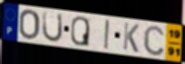C: (143, 24, 166, 57)
I: (103, 18, 110, 51)
K: (122, 21, 140, 54)
O: (18, 9, 41, 41)
Q: (70, 16, 91, 48)
U: (41, 10, 64, 44)
